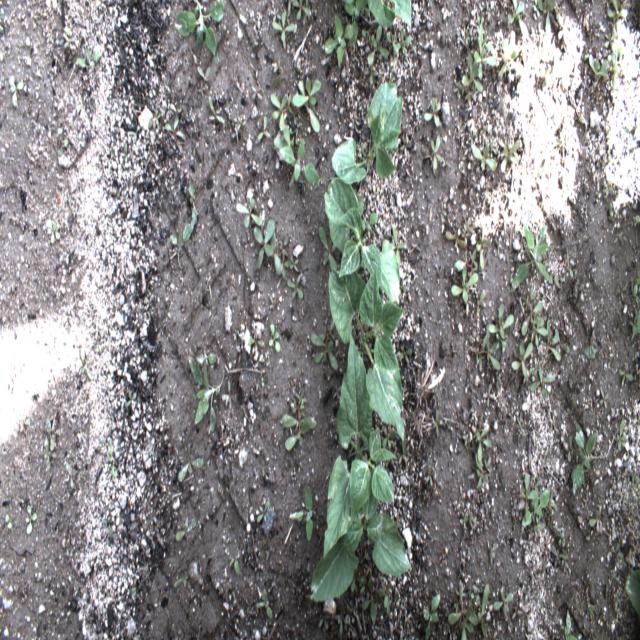crop: (324, 341, 395, 558), (328, 272, 404, 438), (311, 497, 411, 602), (322, 181, 401, 303), (333, 83, 403, 187), (367, 0, 414, 26), (623, 569, 639, 612)
weed: (505, 228, 554, 293), (173, 2, 225, 58), (189, 359, 219, 433), (571, 422, 598, 493), (280, 139, 316, 183), (326, 14, 354, 65), (446, 604, 478, 640), (283, 414, 316, 448), (292, 490, 314, 540), (312, 332, 340, 371), (522, 488, 550, 526), (473, 333, 500, 372), (450, 266, 479, 302), (488, 307, 514, 347), (254, 222, 277, 267), (475, 29, 494, 80), (366, 26, 388, 66), (360, 580, 380, 624), (422, 593, 442, 637), (510, 342, 533, 380), (507, 0, 528, 41), (497, 39, 519, 78), (292, 76, 320, 106), (499, 138, 522, 174), (318, 227, 337, 270), (235, 198, 262, 228), (169, 224, 193, 257), (474, 228, 492, 272), (462, 56, 484, 92), (270, 12, 294, 44), (531, 368, 555, 400), (535, 1, 555, 39), (471, 142, 497, 171), (520, 303, 542, 336), (80, 341, 96, 385), (177, 457, 204, 482), (605, 0, 629, 27), (175, 516, 196, 546), (271, 95, 288, 130), (476, 425, 492, 462), (455, 251, 478, 276), (163, 114, 185, 140), (518, 474, 534, 509), (208, 93, 226, 124), (78, 49, 102, 72), (545, 322, 560, 358), (44, 413, 58, 451), (476, 456, 492, 489), (256, 588, 273, 618), (423, 98, 440, 128), (9, 74, 23, 110), (430, 136, 444, 172), (588, 54, 609, 78), (287, 273, 304, 302), (392, 229, 407, 261), (494, 590, 514, 614), (479, 586, 488, 636), (378, 583, 392, 615), (557, 14, 573, 42), (188, 182, 198, 226), (272, 130, 294, 150), (42, 438, 57, 467), (613, 420, 628, 449), (400, 128, 414, 159), (290, 1, 312, 20), (25, 503, 38, 535), (46, 218, 61, 244), (530, 319, 545, 345), (610, 50, 620, 89), (270, 324, 282, 356), (448, 233, 468, 252), (551, 542, 568, 564), (560, 399, 576, 422), (223, 382, 237, 408), (256, 500, 270, 526), (565, 612, 579, 638), (586, 510, 601, 534), (343, 0, 365, 16), (400, 28, 412, 57), (195, 63, 212, 83), (350, 576, 367, 596), (335, 602, 346, 632), (618, 364, 633, 386), (476, 288, 487, 318), (258, 115, 270, 142), (382, 426, 397, 447), (307, 106, 319, 132), (107, 443, 117, 474), (195, 351, 217, 365), (248, 334, 262, 356), (362, 212, 377, 232), (609, 542, 625, 560), (387, 32, 400, 54), (604, 30, 618, 50), (557, 132, 567, 160), (399, 441, 411, 464), (484, 383, 495, 408), (615, 276, 626, 301), (229, 555, 242, 576), (363, 67, 378, 85), (62, 32, 76, 51), (399, 345, 411, 367), (540, 65, 550, 91), (564, 255, 575, 278), (322, 320, 336, 338), (523, 289, 535, 310), (598, 387, 608, 412), (628, 318, 639, 340), (102, 516, 114, 536), (454, 584, 466, 604), (18, 412, 32, 429), (66, 463, 75, 489), (294, 390, 307, 408), (318, 611, 331, 629), (281, 249, 289, 278), (488, 542, 498, 565), (56, 140, 71, 155), (629, 469, 638, 493), (462, 218, 474, 236), (517, 414, 526, 437), (437, 201, 446, 224), (584, 345, 596, 362), (453, 80, 464, 98), (512, 604, 524, 620), (151, 108, 161, 127), (126, 391, 137, 408), (426, 463, 434, 486), (176, 572, 189, 586), (533, 521, 546, 535), (600, 180, 614, 193), (470, 587, 480, 605), (633, 278, 639, 307), (431, 456, 438, 480), (462, 513, 476, 525), (567, 436, 573, 463), (298, 77, 306, 97), (250, 86, 262, 99), (433, 410, 439, 435), (586, 606, 596, 621), (613, 230, 623, 245), (347, 604, 353, 627), (490, 134, 497, 153), (122, 146, 130, 162), (290, 256, 299, 270), (274, 254, 280, 275), (465, 27, 472, 45), (272, 60, 282, 72), (552, 493, 558, 513), (198, 83, 205, 100), (5, 514, 12, 530), (237, 116, 245, 129), (468, 129, 474, 145), (559, 530, 564, 548), (272, 9, 279, 21), (609, 201, 614, 217), (466, 90, 472, 103), (634, 212, 639, 225), (0, 10, 3, 23)
